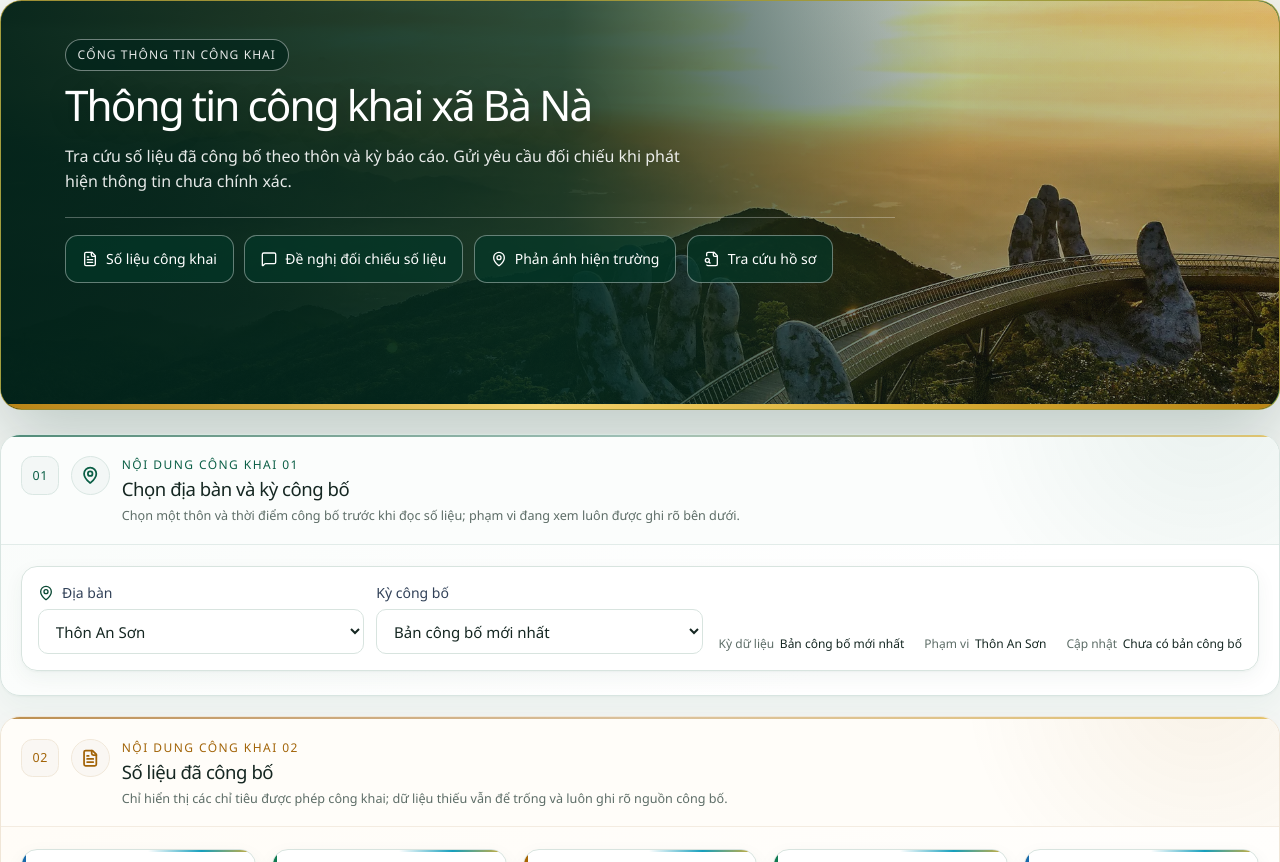
Scenario: PublicVillagePage navigation › clearly marks example lookup codes and blocks them locally
Click the button "Tra cứu hồ sơ" at (760, 259), box 687,235 -> 833,283
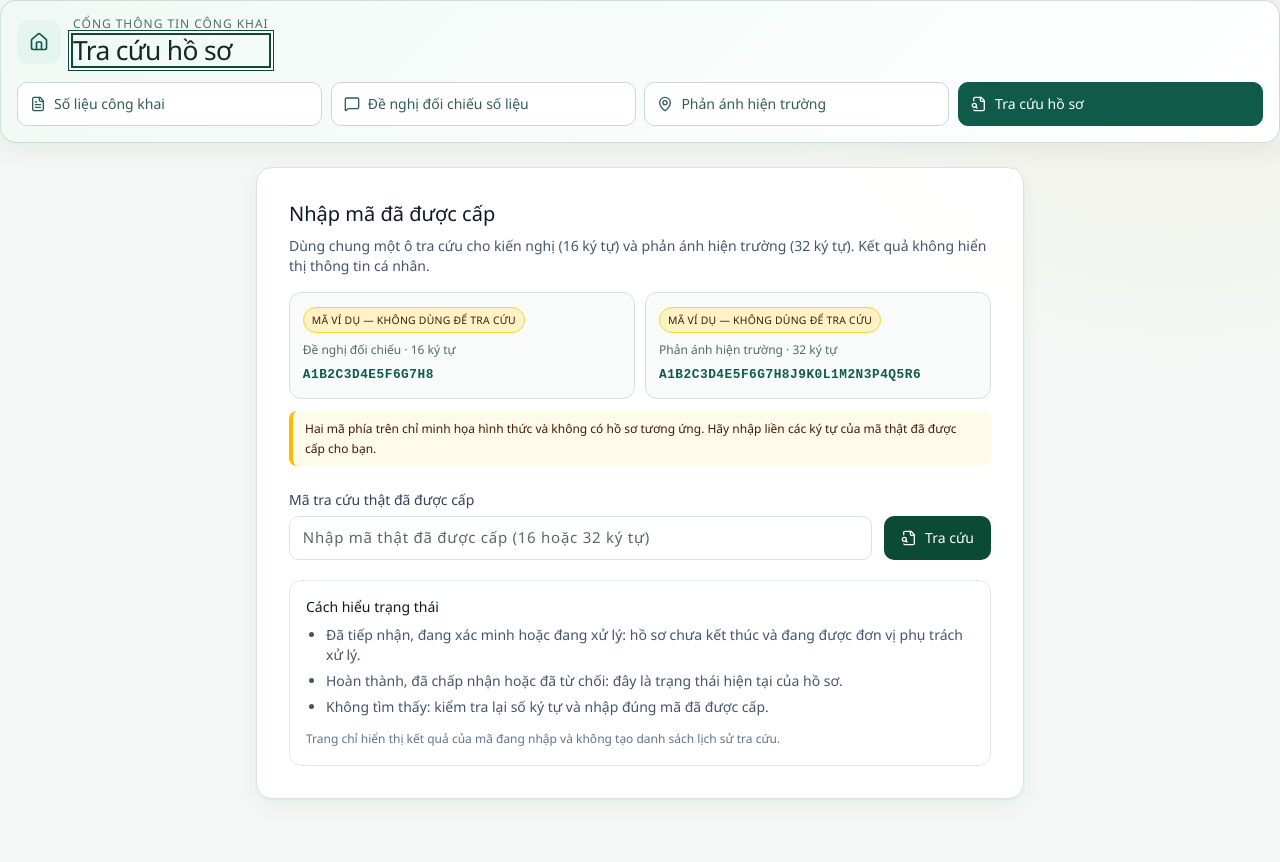
Expected: the text "Mã ví dụ — không dùng để tra cứu" is shown 2 times, 303,307 -> 525,333; 659,307 -> 881,333
Type "A1B2C3D4E5F6G7H8" into the field labelled "Mã tra cứu thật đã được cấp" at (581, 538), box 289,516 -> 872,560
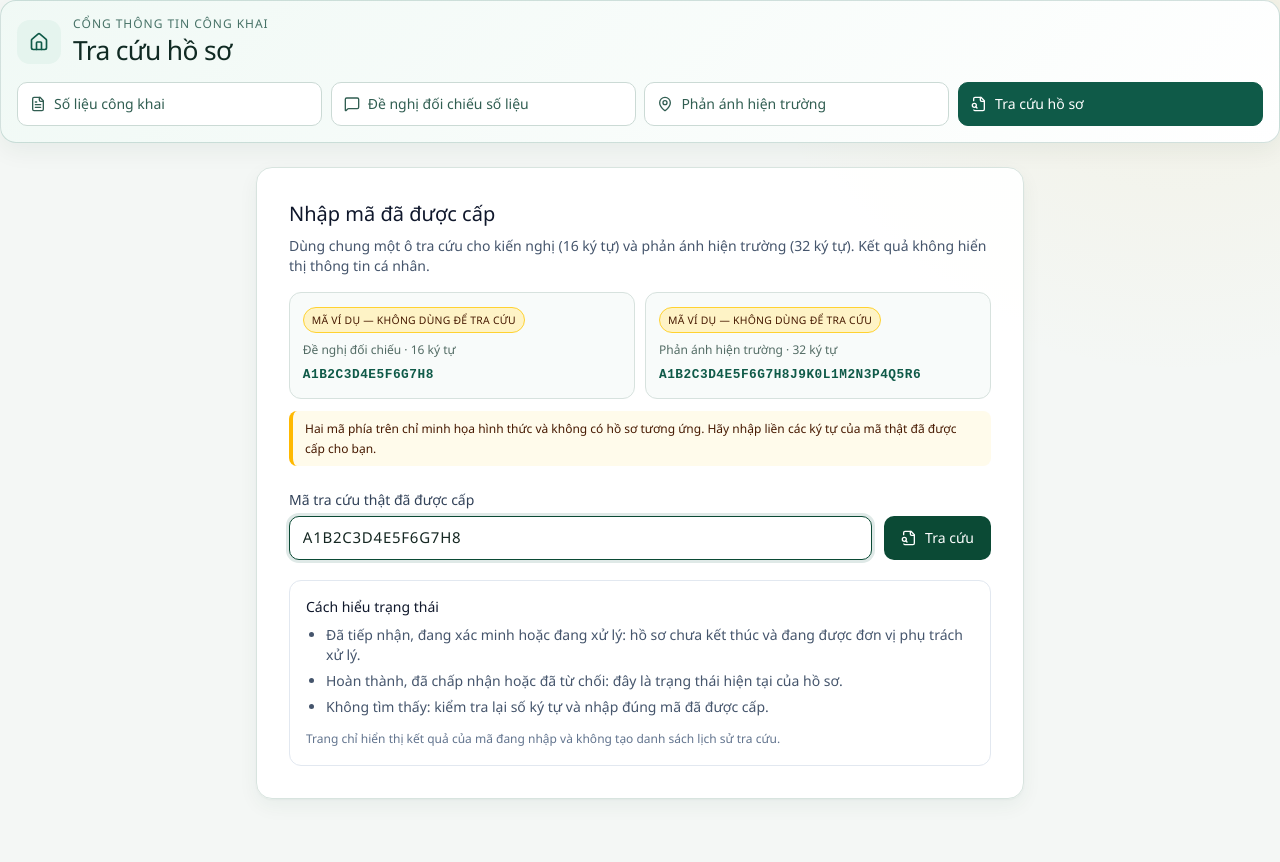
Click the button "Tra cứu" at (938, 538), box 884,516 -> 991,560
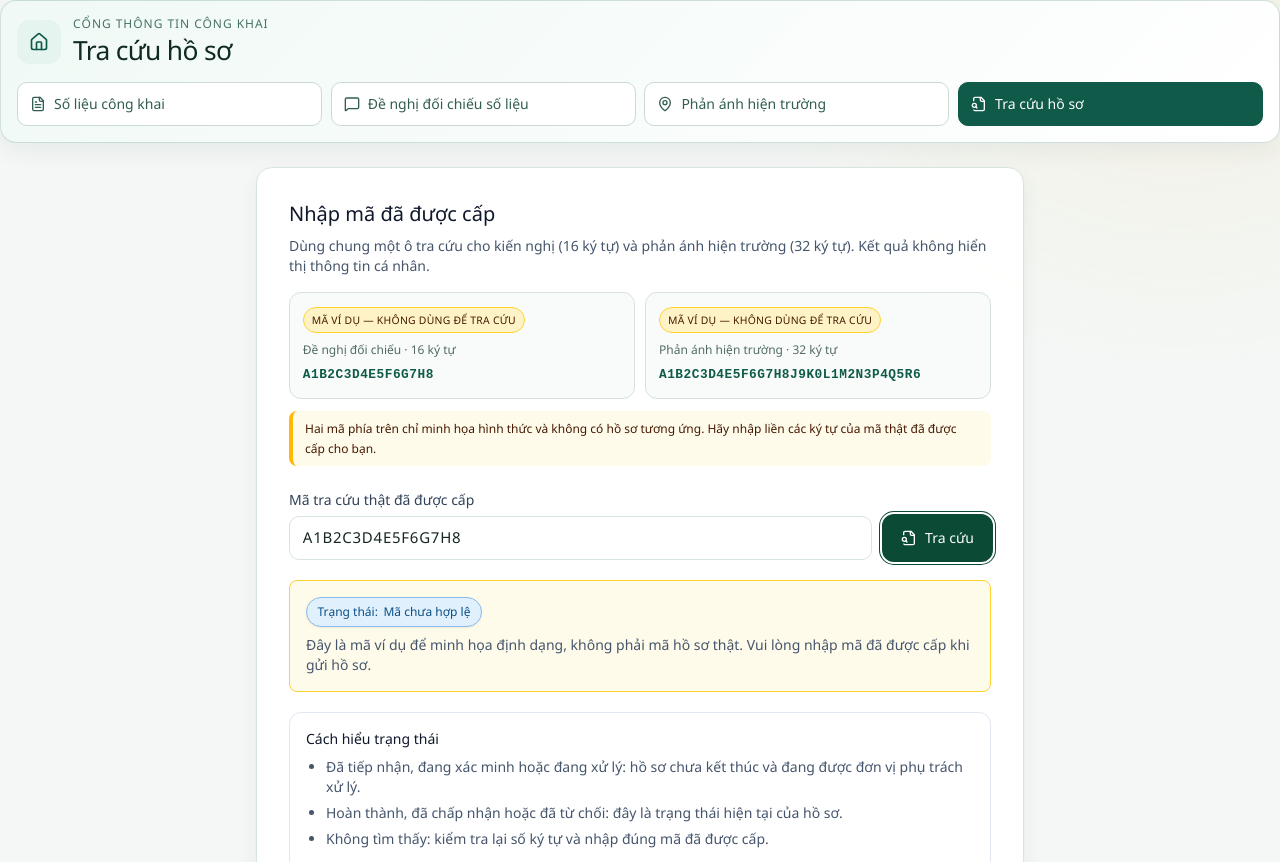
Expected: the message shows "Đây là mã ví dụ để minh họa định dạng, không phải mã hồ sơ thật.", 306,635 -> 970,674
